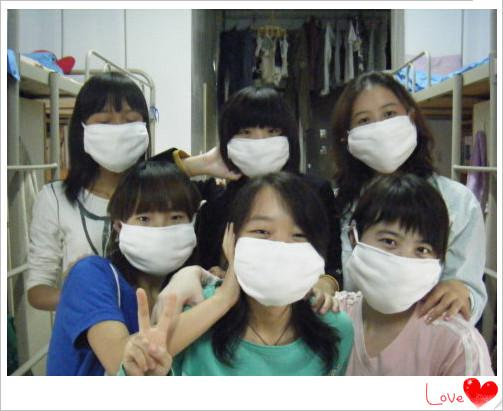OK: (354, 233, 445, 309), (240, 223, 326, 298), (127, 202, 197, 277), (90, 101, 147, 174), (357, 104, 419, 170), (230, 122, 293, 181)
